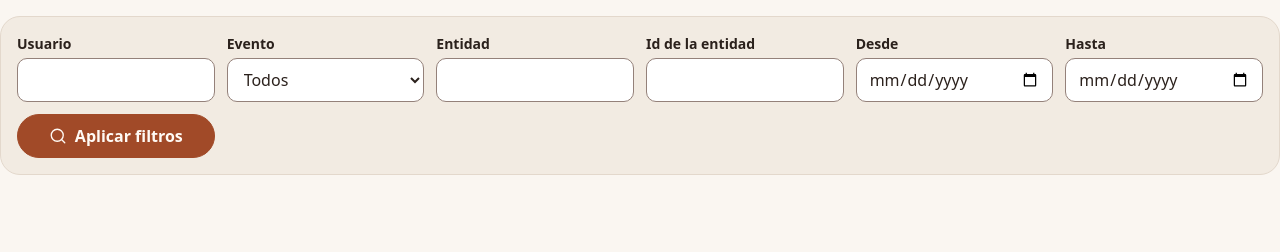
Test case: FiltrosAuditoria › con desde posterior a hasta muestra el error y no emite
The width and height of the screenshot is (1280, 252).
Type "2026-11-20" into the date field labelled "Desde".
click(955, 80); type("2026-11-20")  # box [856,58,1053,102]
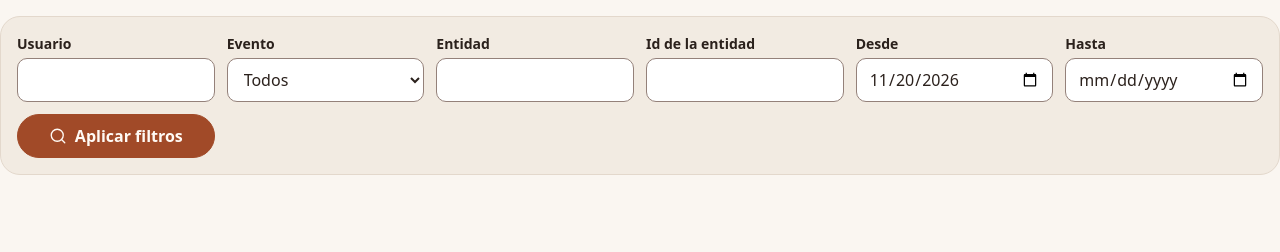
Type "2026-11-10" into the date field labelled "Hasta".
click(1164, 80); type("2026-11-10")  # box [1065,58,1263,102]
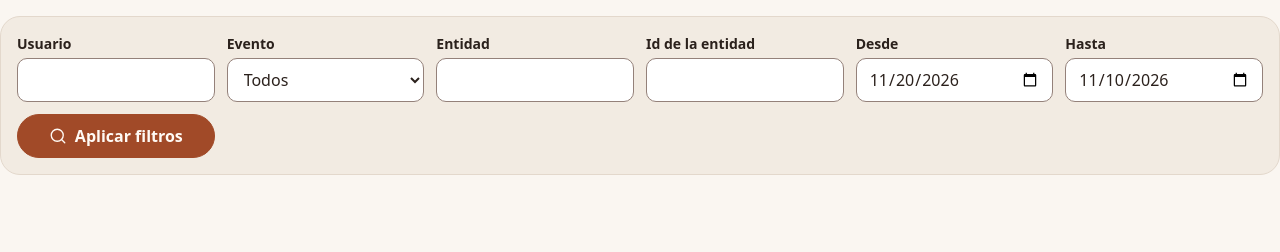
Click the button "Aplicar filtros".
click(116, 136)  # box [17,114,215,158]
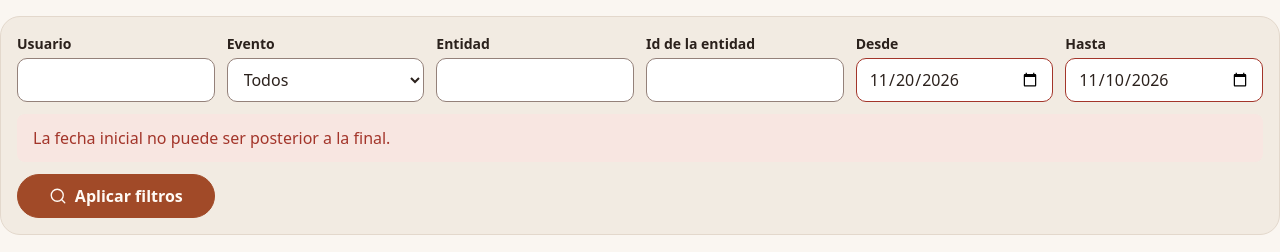
Now the message reads "La fecha inicial no puede ser posterior a la final.", box [33,127,390,149]
